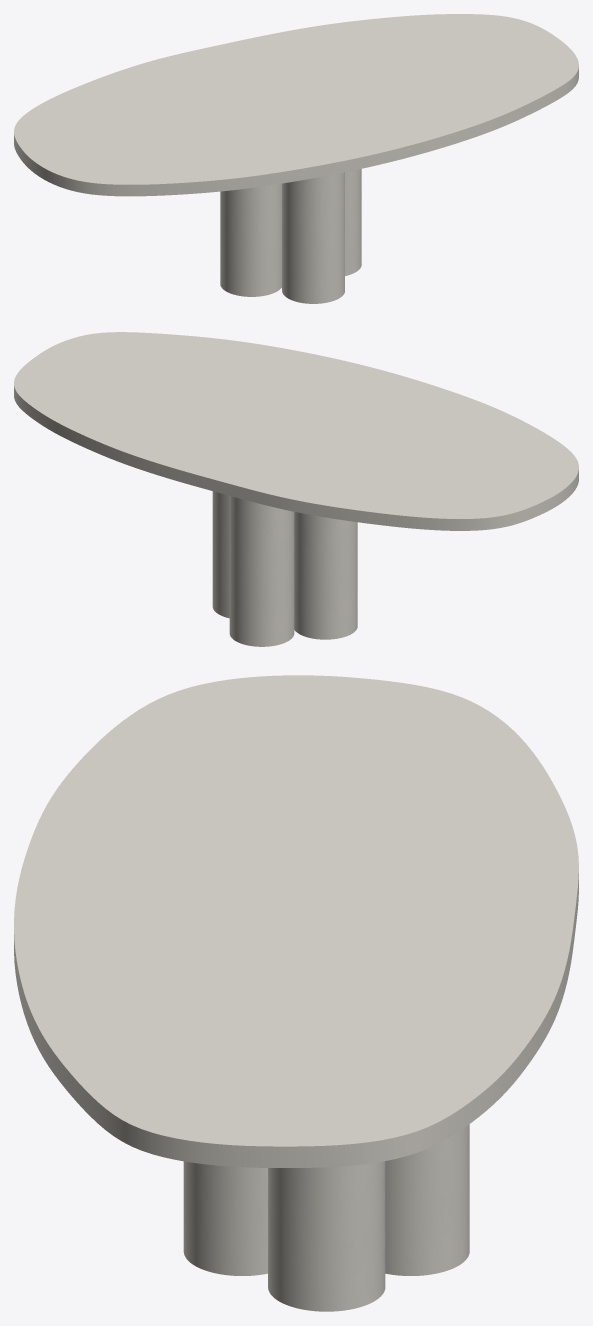
The model's file is pale_danish_standard_secondtable.glb.
3 renders of one model, top to bottom at view 1: azimuth 30°, elevation 25°; view 2: azimuth 150°, elevation 25°; view 3: azimuth 270°, elevation 25°, orthographic. The views are drawn at different scales.
Visible parts, largest first — view 1: standard_danish, secondtable; view 2: standard_danish, secondtable; view 3: standard_danish, secondtable.
Boxes of the visible parts, <box> form: standard_danish: <box>14,14,578,196</box>; secondtable: <box>220,169,361,303</box>; standard_danish: <box>14,332,578,530</box>; secondtable: <box>212,491,357,646</box>; standard_danish: <box>14,675,578,1167</box>; secondtable: <box>183,1124,469,1311</box>.
Size of the model in its own units: 7.5 by 2.5 by 3.8.
Materials: 1 (1 with a texture image).
